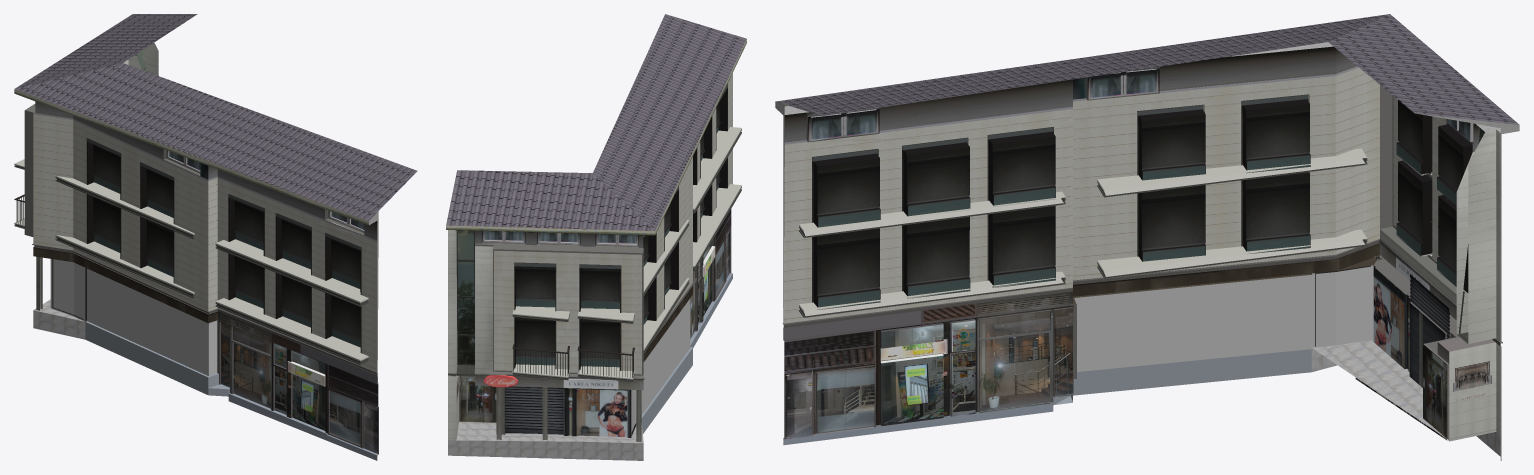
The model's file is Confit.fbx.
The picture shows the model from 3 angles, left to right: view 1: azimuth 30°, elevation 25°; view 2: azimuth 150°, elevation 25°; view 3: azimuth 270°, elevation 25°; orthographic projection. The views are drawn at different scales.
Parts seen in each view (by area): view 1: polySurface1841, polySurface1921, polySurface1916, polySurface1923, polySurface1922, polySurface1915, polySurface1924, polySurface1925, polySurface1917, polySurface1914; view 2: polySurface1841, polySurface1913, polySurface1927, polySurface1925, polySurface1924, polySurface1915, polySurface1916, polySurface1914, polySurface1917, polySurface1923, polySurface1922, polySurface1873 (+7 smaller); view 3: polySurface1841, polySurface1921, polySurface1916, polySurface1923, polySurface1922, polySurface1915, polySurface1914, polySurface1917, polySurface1925, polySurface1924, polySurface1913.
Part boxes in pixels (left/top/right/bottom): polySurface1841: left=14, top=14, right=417, bottom=460; polySurface1921: left=228, top=194, right=264, bottom=314; polySurface1916: left=86, top=138, right=121, bottom=258; polySurface1923: left=275, top=213, right=311, bottom=333; polySurface1922: left=325, top=232, right=361, bottom=353; polySurface1915: left=140, top=162, right=174, bottom=282; polySurface1924: left=215, top=297, right=368, bottom=364; polySurface1925: left=215, top=239, right=368, bottom=306; polySurface1917: left=55, top=176, right=194, bottom=238; polySurface1914: left=55, top=235, right=194, bottom=298; polySurface1841: left=446, top=14, right=746, bottom=460; polySurface1913: left=505, top=386, right=563, bottom=434; polySurface1927: left=456, top=230, right=474, bottom=365; polySurface1925: left=693, top=127, right=741, bottom=213; polySurface1924: left=693, top=184, right=741, bottom=270; polySurface1915: left=664, top=186, right=678, bottom=309; polySurface1916: left=643, top=233, right=656, bottom=324; polySurface1914: left=643, top=278, right=689, bottom=354; polySurface1917: left=643, top=219, right=689, bottom=296; polySurface1923: left=700, top=116, right=712, bottom=235; polySurface1922: left=716, top=84, right=727, bottom=207; polySurface1873: left=577, top=311, right=634, bottom=323; polySurface1841: left=775, top=14, right=1519, bottom=460; polySurface1921: left=987, top=127, right=1055, bottom=287; polySurface1916: left=1241, top=94, right=1310, bottom=254; polySurface1923: left=902, top=137, right=970, bottom=298; polySurface1922: left=812, top=149, right=880, bottom=309; polySurface1915: left=1137, top=104, right=1205, bottom=261; polySurface1914: left=1097, top=229, right=1367, bottom=278; polySurface1917: left=1097, top=148, right=1367, bottom=197; polySurface1925: left=799, top=191, right=1065, bottom=237; polySurface1924: left=799, top=271, right=1065, bottom=317; polySurface1913: left=1410, top=274, right=1449, bottom=338.
Size of the model in its own units: 1097 by 1420 by 2620.
